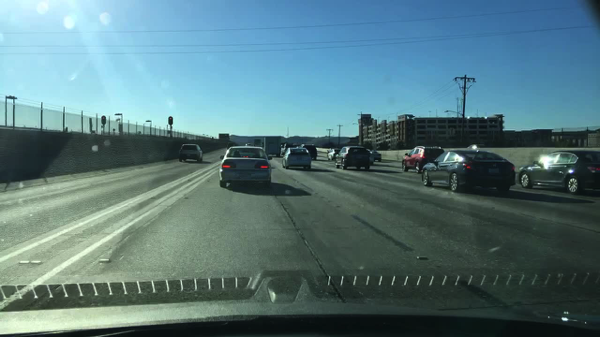car: (420, 149, 515, 194), (517, 148, 599, 195), (219, 146, 271, 188), (401, 145, 445, 173), (335, 147, 371, 171), (281, 147, 313, 171), (178, 143, 203, 162), (301, 143, 318, 162), (281, 144, 299, 157), (326, 147, 340, 162), (367, 148, 376, 165), (371, 150, 382, 161), (224, 141, 236, 149), (468, 143, 484, 149), (244, 142, 251, 146)
truck: (264, 135, 282, 158), (218, 133, 229, 143), (252, 138, 262, 146)
